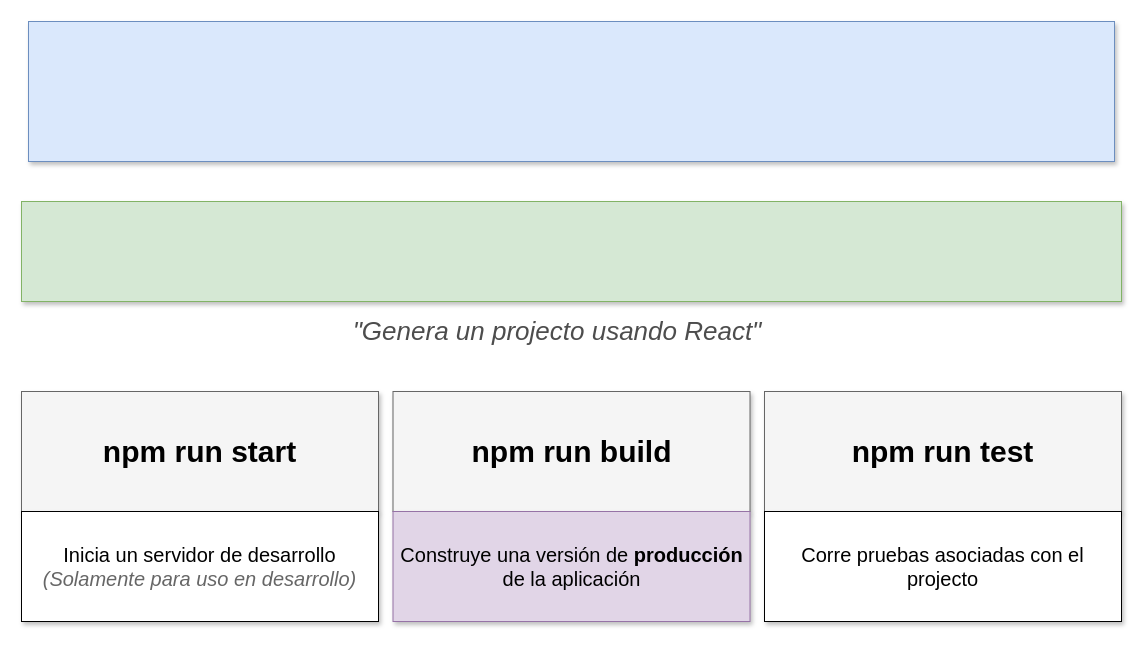
The diagram is 1145 pixels wide and 646 high, and some of its shapes have lost their labels. Each missing label, with the centre of its shape:
"$ npx create-react-app <appname>" belongs at point 572,252.
"Create React App https://create-react-app.dev" belongs at point 572,92.
